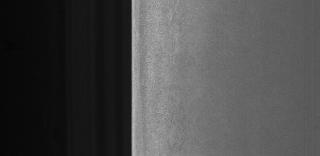silk spot: (158, 23, 195, 125)
